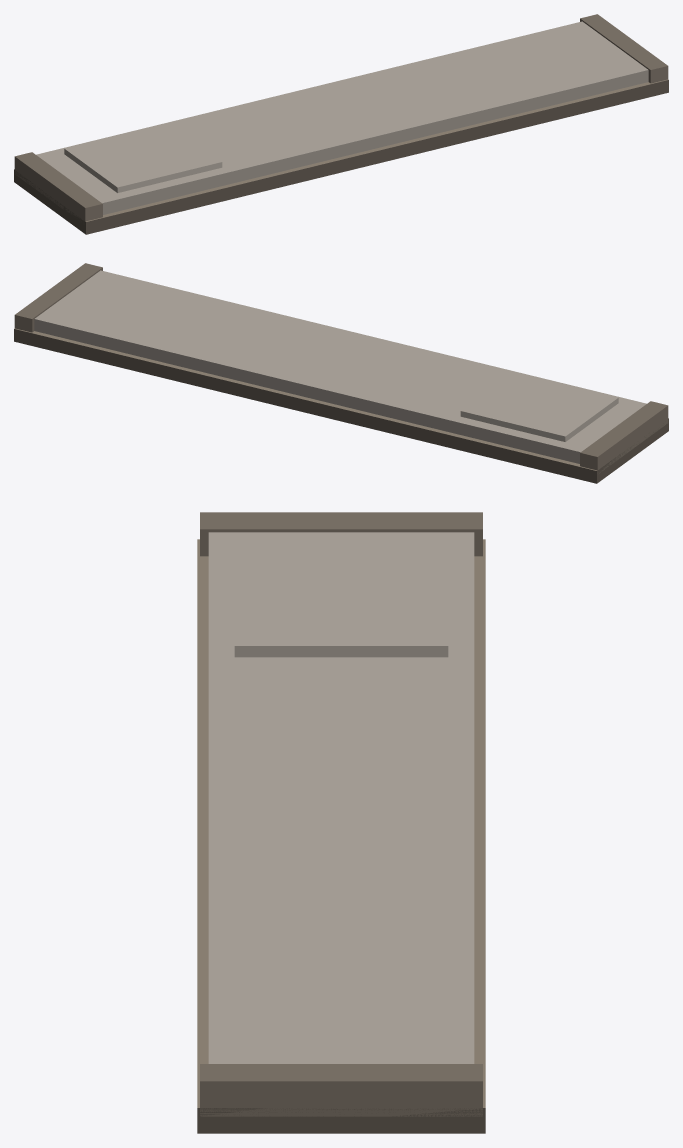
Rendered from bunk_upper.glb.
3 renders of one model, top to bottom at view 1: azimuth 30°, elevation 25°; view 2: azimuth 150°, elevation 25°; view 3: azimuth 270°, elevation 25°, orthographic. The views are drawn at different scales.
Parts seen in each view (by area): view 1: bunk_upper; view 2: bunk_upper; view 3: bunk_upper.
Boxes of the visible parts, box(x1,y1,x2,y2) form: bunk_upper: box(14, 14, 668, 234); bunk_upper: box(14, 263, 668, 483); bunk_upper: box(197, 512, 485, 1133).
Size of the model in its own units: 2.8 by 0.14 by 0.6.
